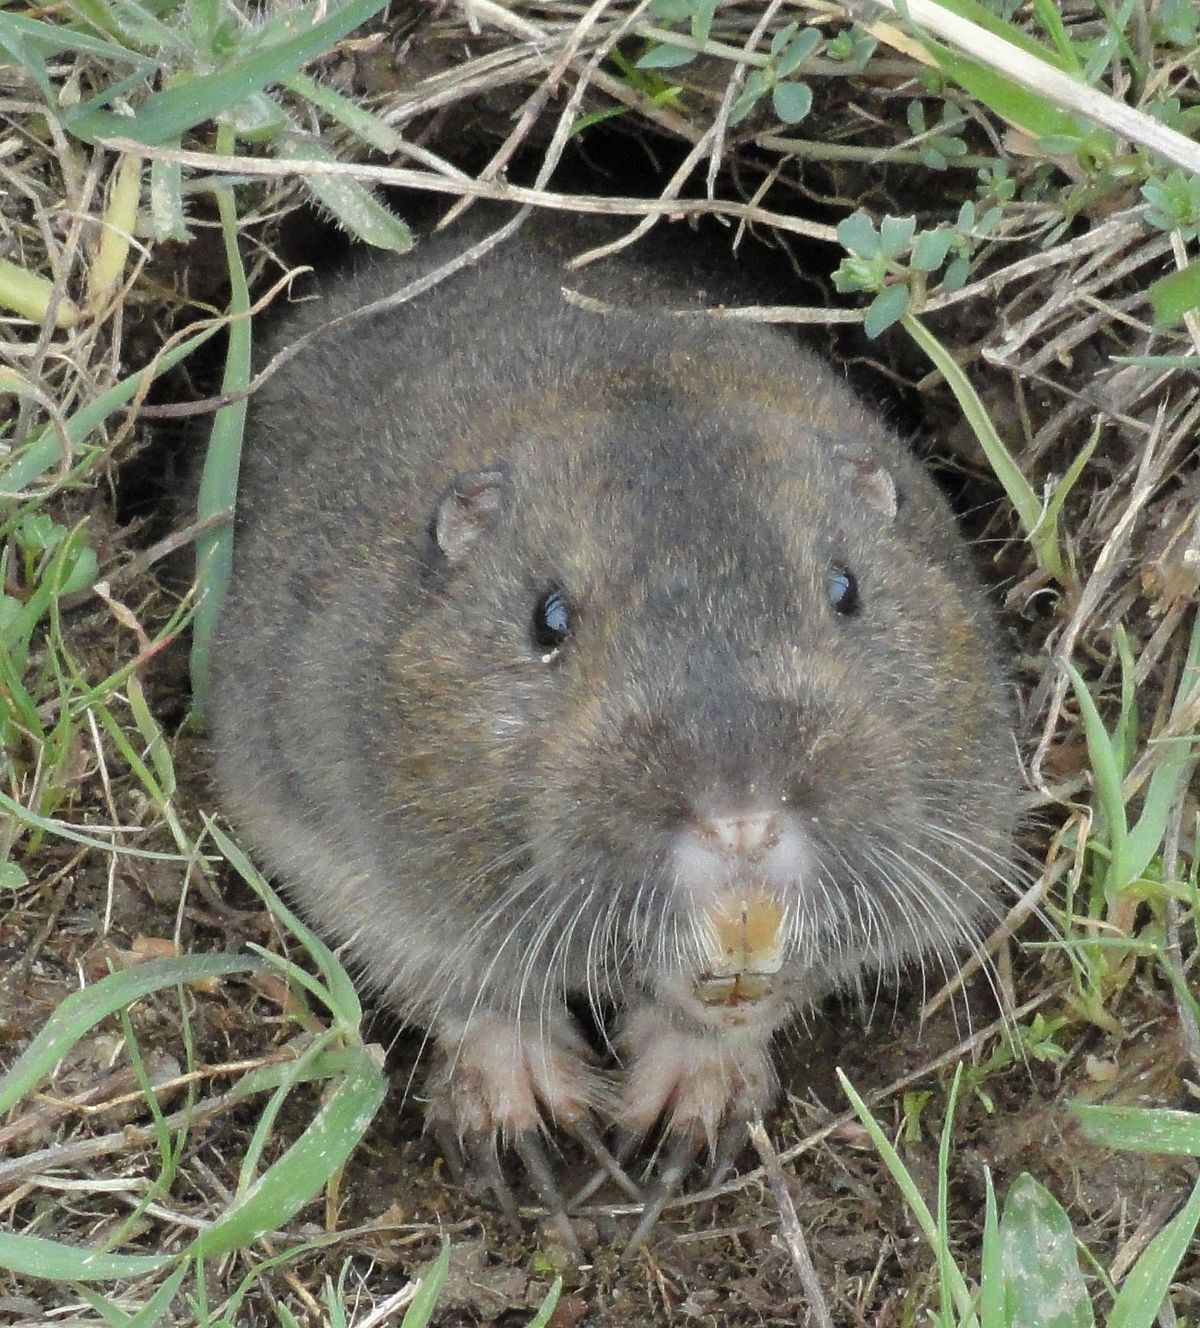gopher: (196, 253, 1021, 1240)
